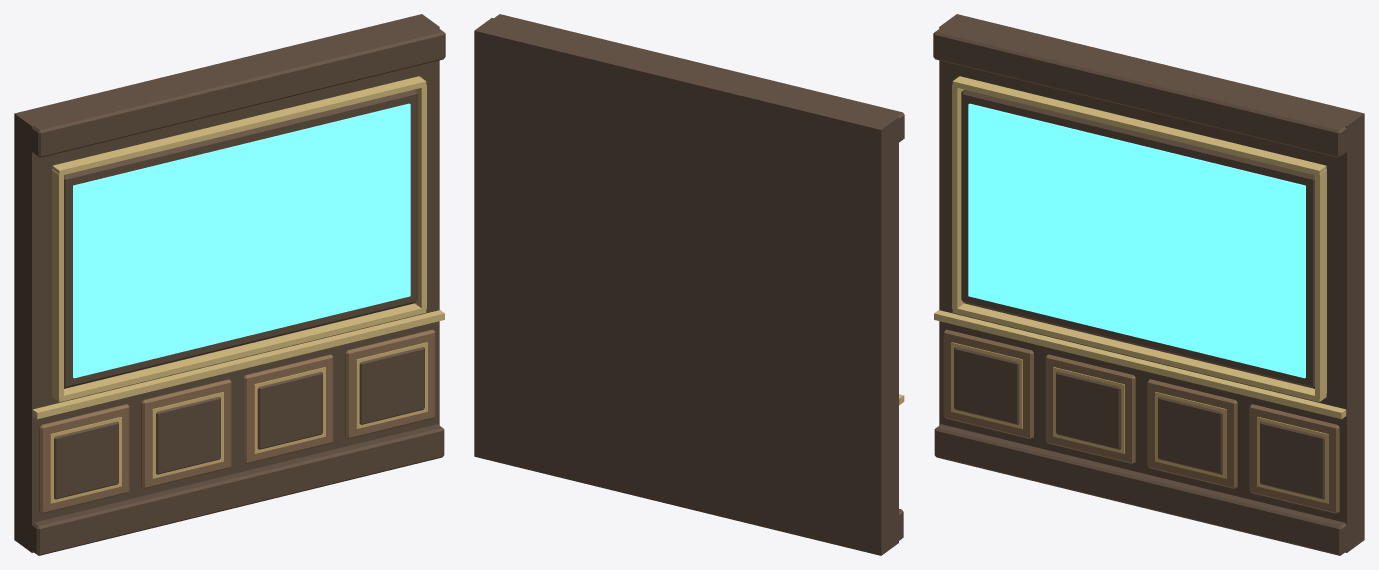
File: wall_ex_screen.glb
3 renders of one model, left to right at view 1: azimuth 30°, elevation 25°; view 2: azimuth 150°, elevation 25°; view 3: azimuth 330°, elevation 25°, orthographic.
Parts seen in each view (by area): view 1: wall_ex_screen; view 2: wall_ex_screen; view 3: wall_ex_screen.
Boxes of the visible parts, x1,y1,x2,y2 form: wall_ex_screen: (14,14,445,555); wall_ex_screen: (474,14,904,555); wall_ex_screen: (933,14,1364,555).
Bounding box in the file's own units: 4 × 4 × 0.42.
